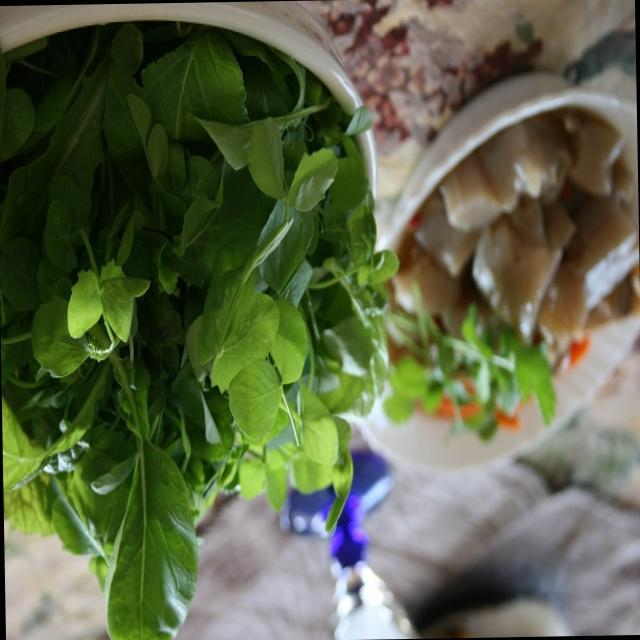Green Salad: (0, 61, 395, 620)
